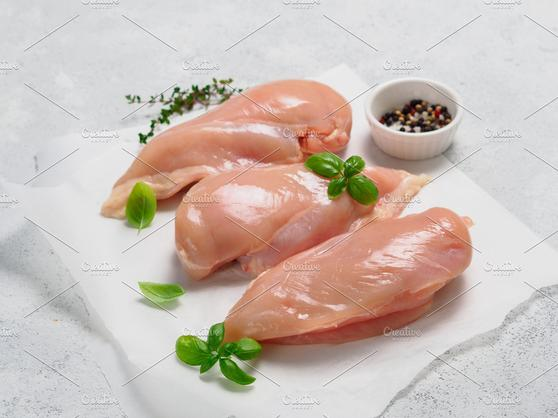chicken_fillet: (224, 212, 482, 349), (105, 79, 358, 203), (161, 158, 429, 272)
